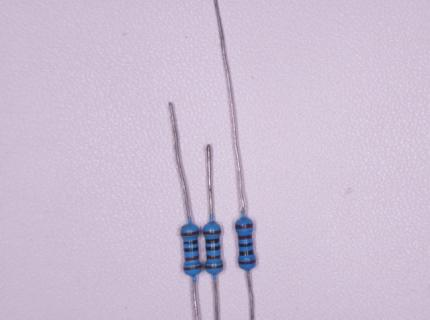Black band: (238, 250, 254, 256), (238, 242, 253, 248), (184, 247, 199, 252), (206, 246, 221, 251), (184, 240, 198, 245), (206, 239, 220, 244)
Brown band: (235, 223, 253, 230), (180, 231, 200, 237), (238, 260, 256, 266), (203, 230, 221, 235), (184, 266, 201, 271), (185, 256, 199, 262), (238, 235, 253, 240), (205, 265, 223, 269), (207, 256, 221, 259)
